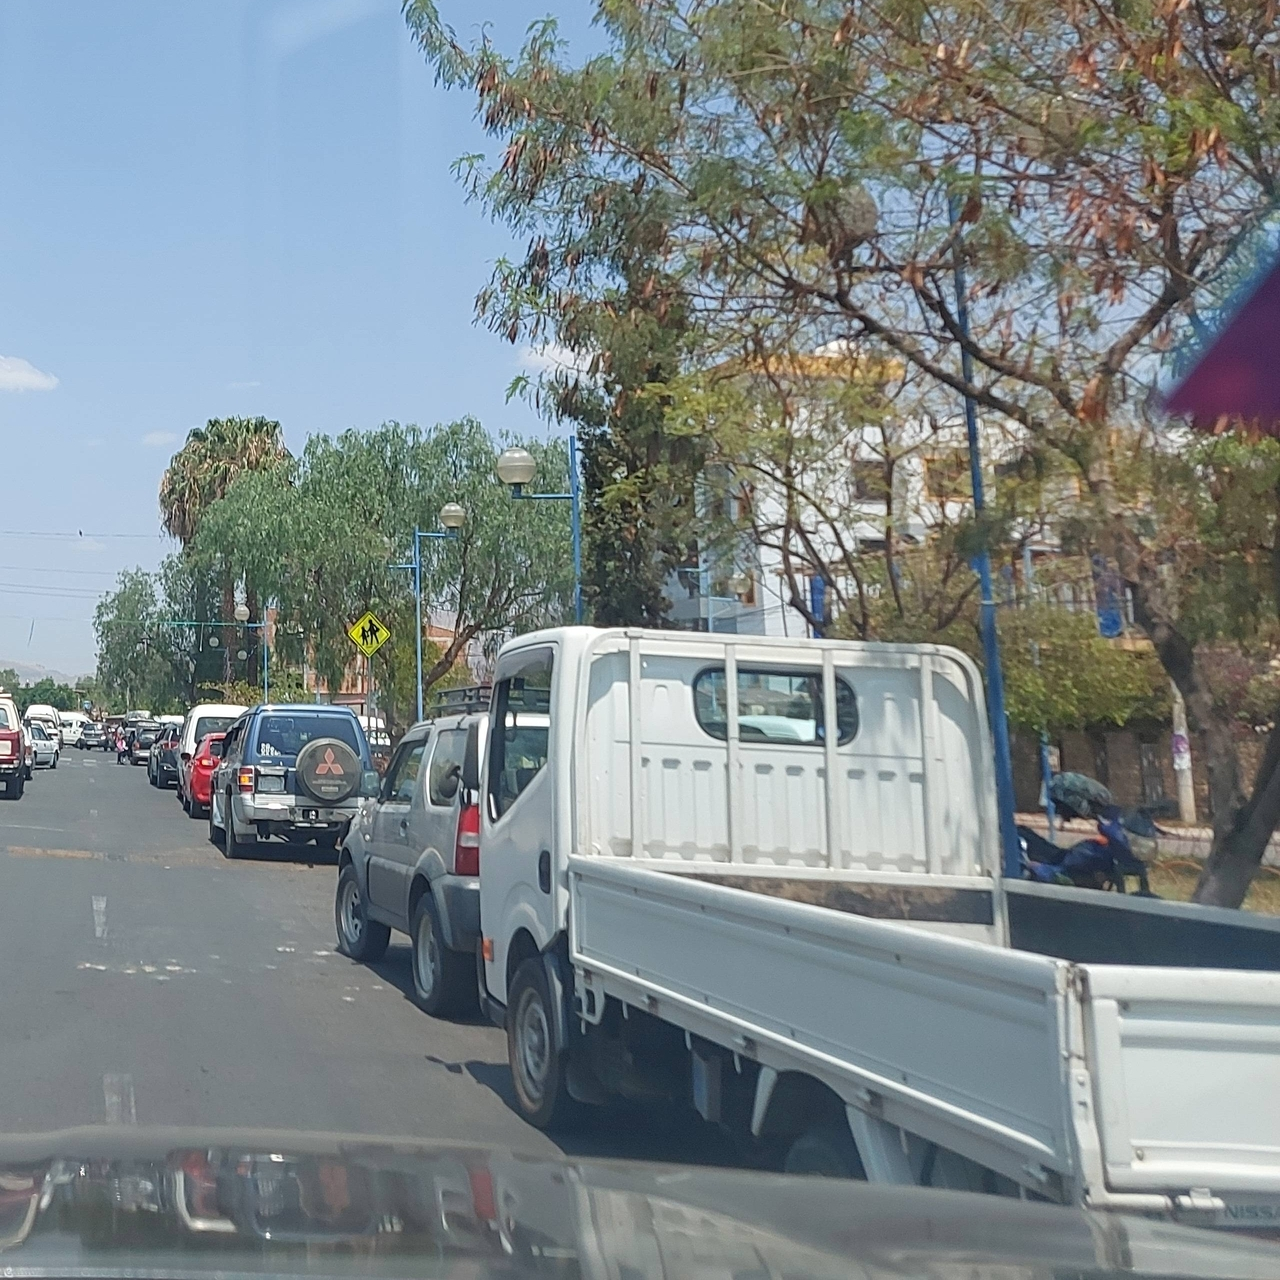zona-escolar: (346, 608, 390, 658)
